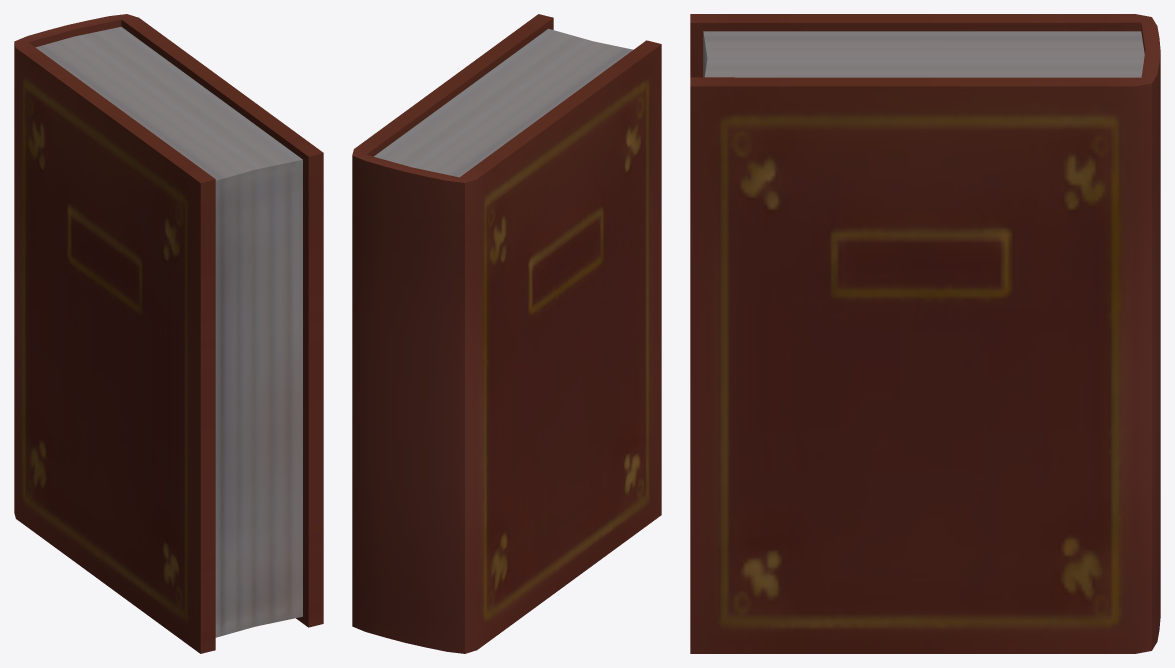
The model's file is Book #3.fbx.
3 views of the same model, side by side, from view 1: azimuth 30°, elevation 25°; view 2: azimuth 150°, elevation 25°; view 3: azimuth 270°, elevation 25° (orthographic). The views are drawn at different scales.
Visible parts, largest first — view 1: Book002; view 2: Book002; view 3: Book002.
Part boxes in pixels (bbox=[...]): Book002: bbox=[14, 14, 323, 653]; Book002: bbox=[352, 14, 661, 653]; Book002: bbox=[690, 14, 1160, 653].
Size of the model in its own units: 2.5 by 9.11 by 6.84.
